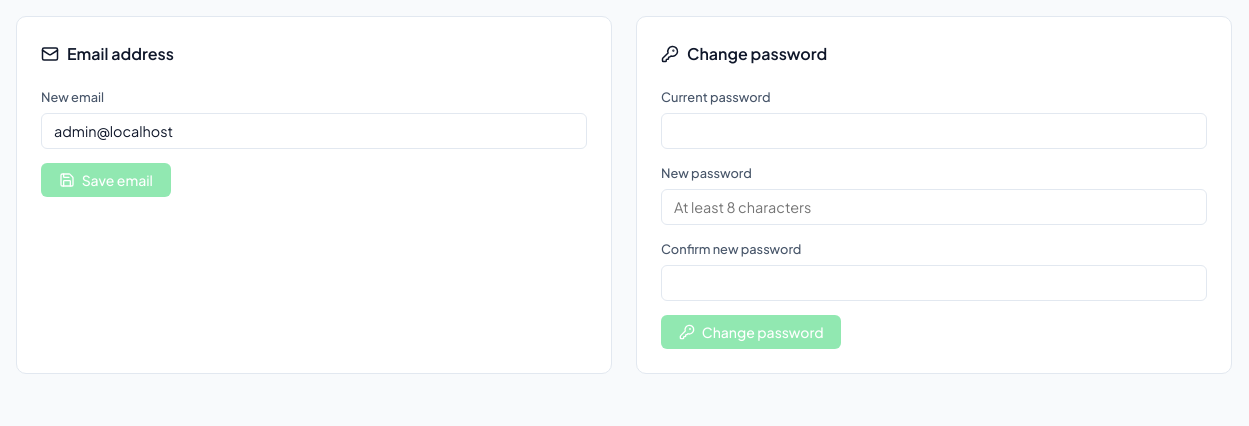
Test: Profile page › with JWT › password change › shows error when passwords do not match
Type "oldpass1" into the password field labelled "Current password".
click(934, 131); type("oldpass1")  # box top-left (661, 113), bottom-right (1207, 149)
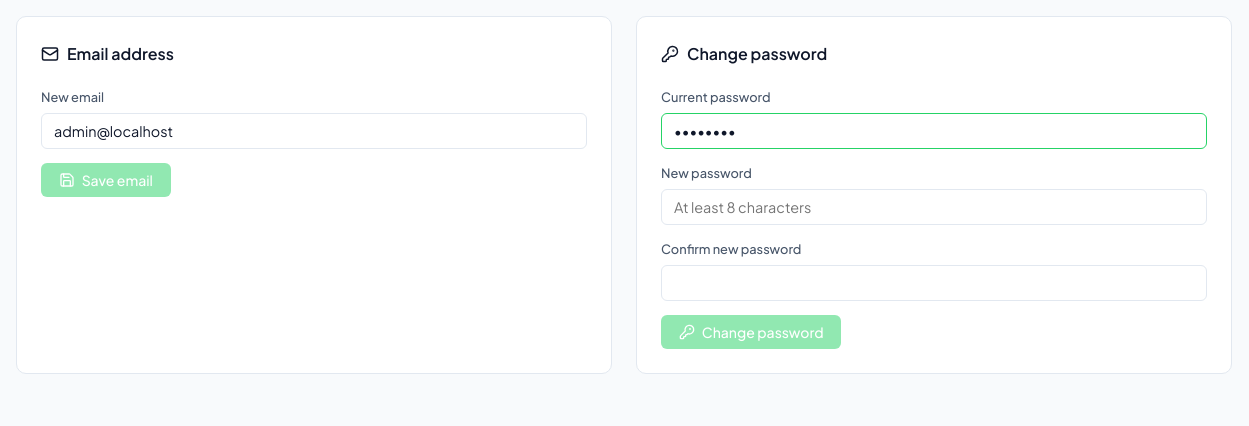
Type "newpass123" into the password field labelled "New password".
click(934, 207); type("newpass123")  # box top-left (661, 189), bottom-right (1207, 225)
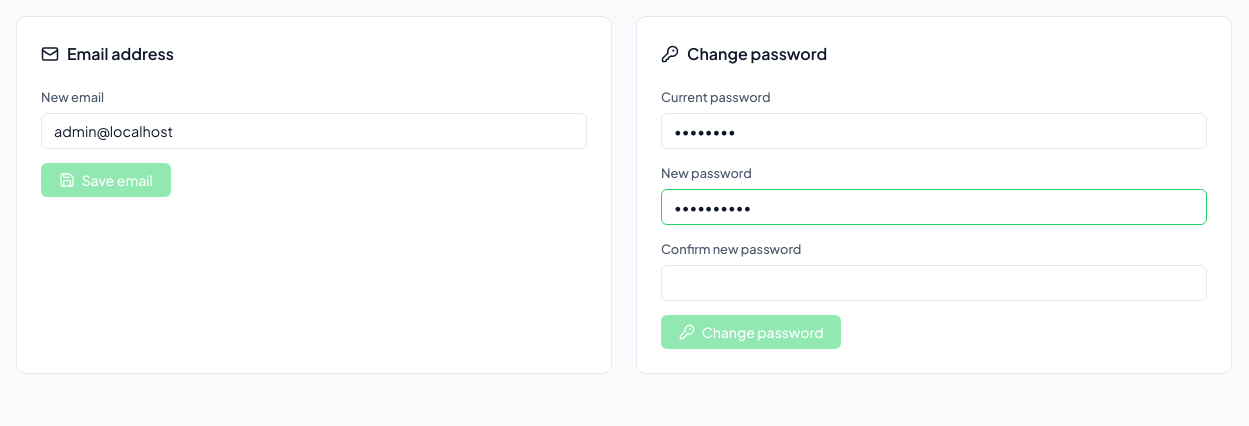
Type "different" into the password field labelled "Confirm new password".
click(934, 283); type("different")  # box top-left (661, 265), bottom-right (1207, 301)
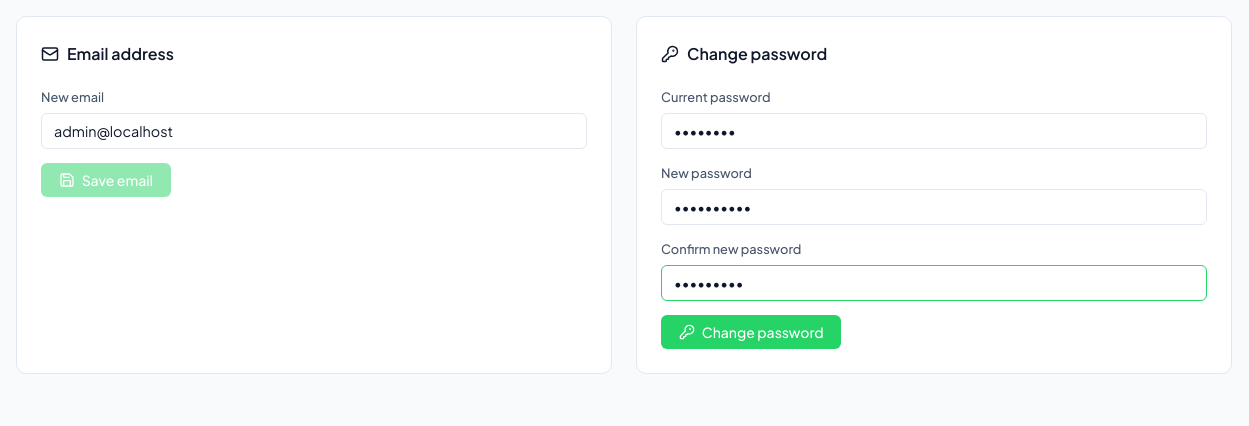
Click the button "Change password".
click(751, 332)  # box top-left (661, 315), bottom-right (841, 349)
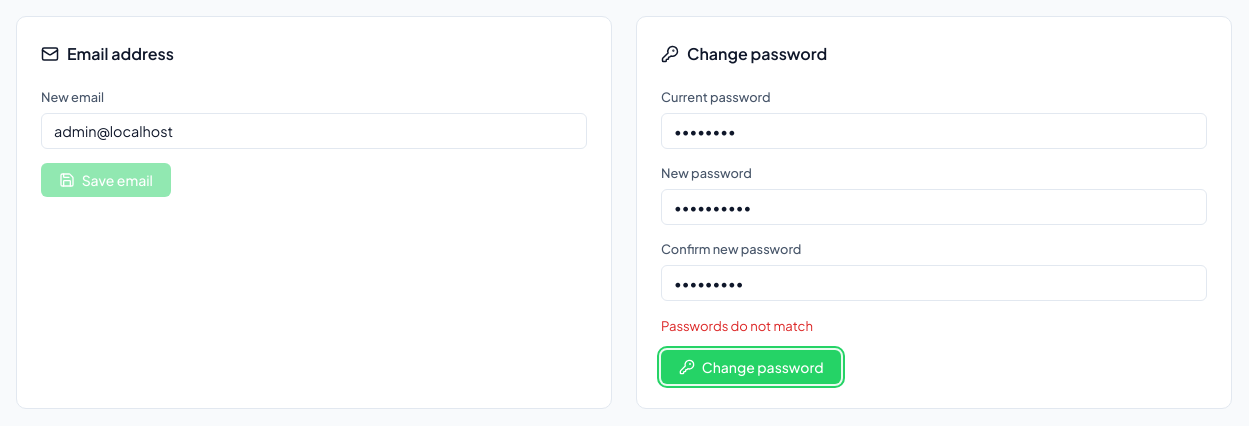
Expected: the text "Passwords do not match" is shown, top-left (661, 317), bottom-right (813, 334)
